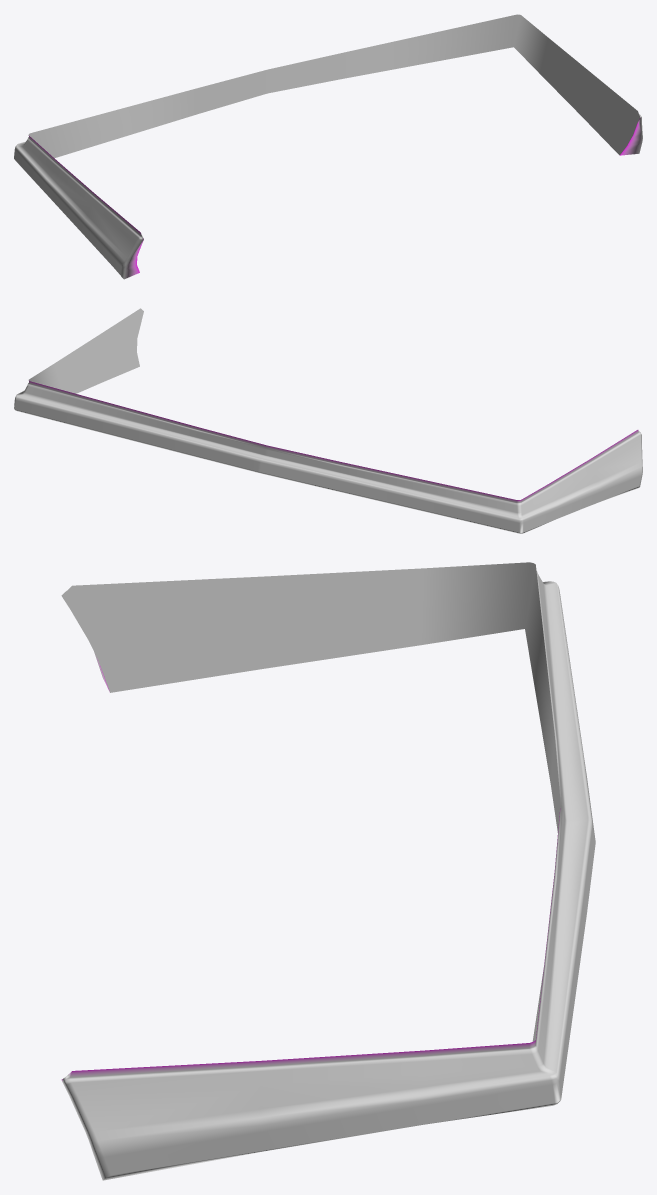
The model's file is Car_Buick_GrandNational_1987_Diffuser_SetD.fbx.
3 renders of one model, top to bottom at view 1: azimuth 30°, elevation 25°; view 2: azimuth 150°, elevation 25°; view 3: azimuth 270°, elevation 25°, orthographic. The views are drawn at different scales.
Parts seen in each view (by area): view 1: Diffuser 6; view 2: Diffuser 6; view 3: Diffuser 6.
Boxes of the visible parts, box(x1,y1,x2,y2) form: Diffuser 6: box(14, 14, 642, 279); Diffuser 6: box(14, 308, 642, 533); Diffuser 6: box(61, 562, 595, 1180).
Bounding box in the file's own units: 1.68 × 0.1955 × 0.7457.
